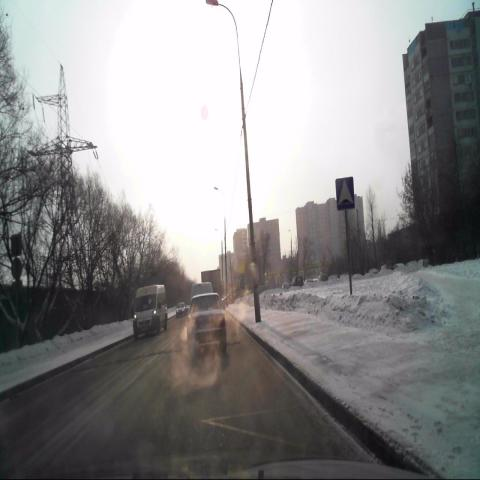5_20: (336, 176, 354, 210)
